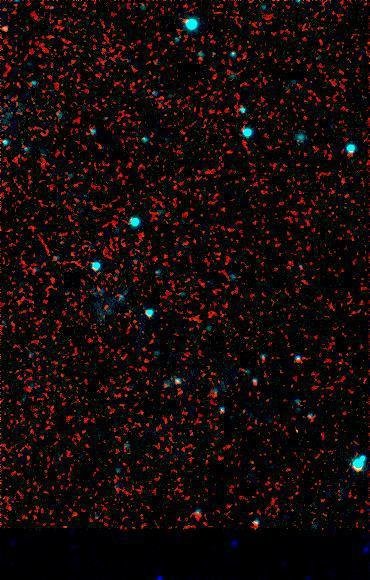star: (0, 16, 23, 46)
